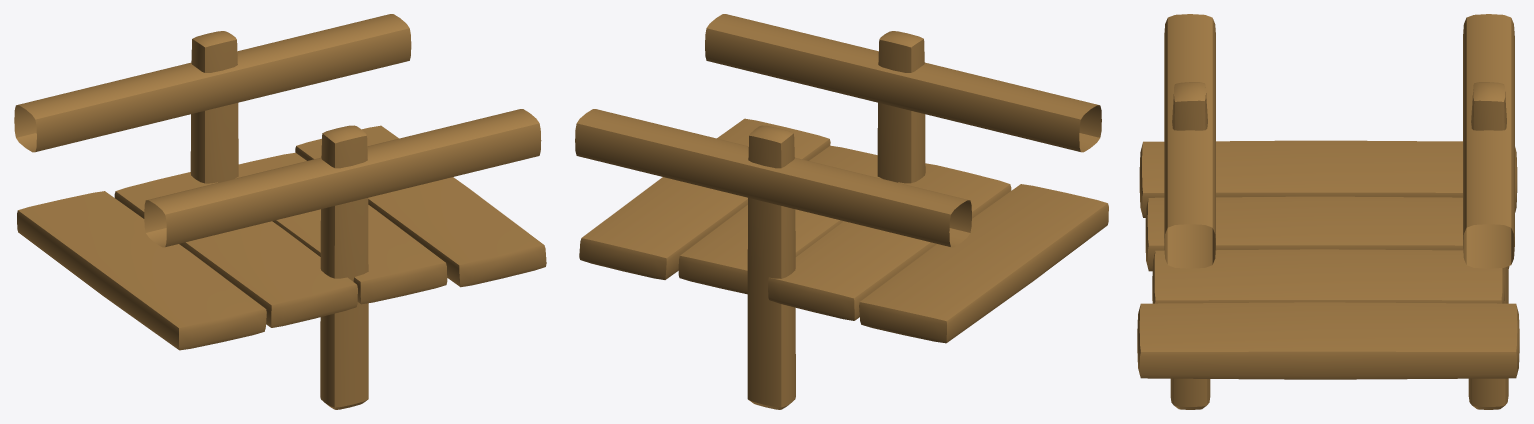
The model's file is Bridge Modular Center.glb.
The picture shows the model from 3 angles, left to right: view 1: azimuth 30°, elevation 25°; view 2: azimuth 150°, elevation 25°; view 3: azimuth 270°, elevation 25°; orthographic projection. The views are drawn at different scales.
Visible parts, largest first — view 1: Bridge_Modular_Center; view 2: Bridge_Modular_Center; view 3: Bridge_Modular_Center.
Part boxes in pixels (x1,y1,x2,y2): Bridge_Modular_Center: (14, 14, 546, 409); Bridge_Modular_Center: (575, 14, 1108, 409); Bridge_Modular_Center: (1137, 14, 1519, 409).
Size of the model in its own units: 3 by 2.09 by 2.31.
